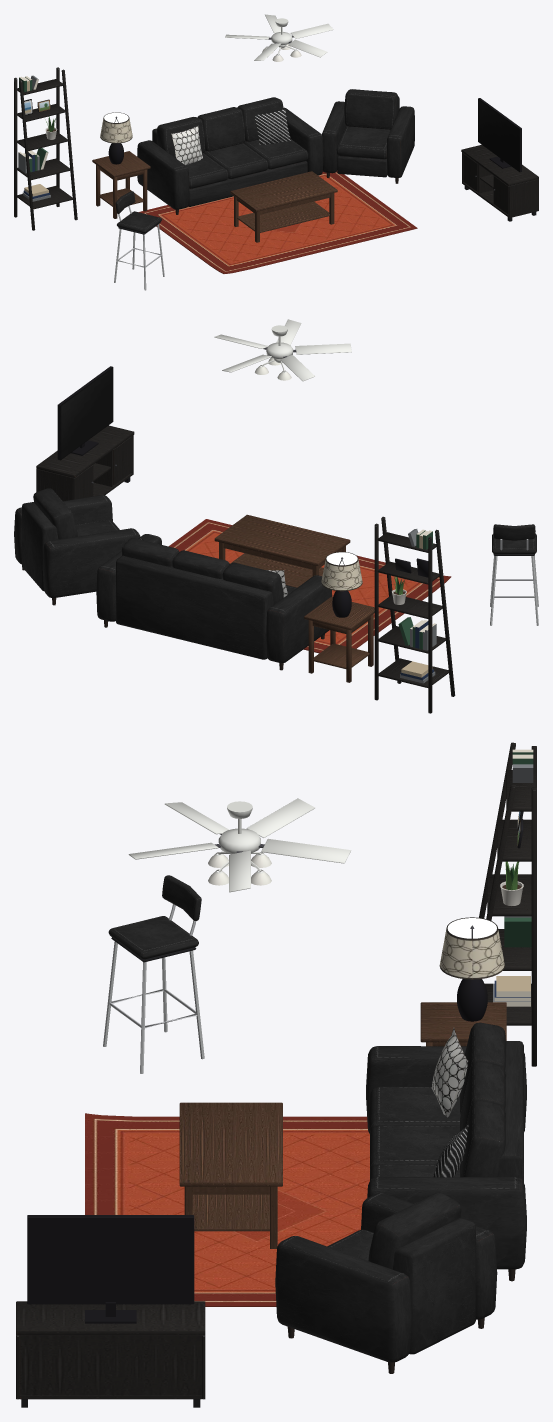
The model's file is us_living_props.glb.
3 views of the same model, one above another, from view 1: azimuth 30°, elevation 25°; view 2: azimuth 150°, elevation 25°; view 3: azimuth 270°, elevation 25° (orthographic). The views are drawn at different scales.
Visible parts, largest first — view 1: US_SOFA, US_RUG, US_ARMCHAIR, US_TVSTAND, US_LADDER, US_COFFEE, US_ENDTABLE, US_CEILINGFAN, US_BARSTOOL; view 2: US_SOFA, US_ARMCHAIR, US_TVSTAND, US_LADDER, US_COFFEE, US_ENDTABLE, US_RUG, US_CEILINGFAN, US_BARSTOOL; view 3: US_TVSTAND, US_SOFA, US_ARMCHAIR, US_RUG, US_COFFEE, US_LADDER, US_CEILINGFAN, US_ENDTABLE, US_BARSTOOL, US_ENDTABLE_GLOW.
Part boxes in pixels (x1,y1,x2,y2): US_SOFA: (137,97,323,214); US_RUG: (138,170,417,273); US_ARMCHAIR: (322,89,414,183); US_TVSTAND: (461,98,538,221); US_LADDER: (14,67,77,230); US_COFFEE: (230,171,337,242); US_ENDTABLE: (92,112,150,218); US_CEILINGFAN: (225,14,333,61); US_BARSTOOL: (114,191,164,290); US_SOFA: (96,534,332,670); US_ARMCHAIR: (14,488,140,605); US_TVSTAND: (36,366,134,501); US_LADDER: (374,516,455,713); US_COFFEE: (214,514,350,587); US_ENDTABLE: (304,552,374,682); US_RUG: (169,519,451,653); US_CEILINGFAN: (214,319,351,381); US_BARSTOOL: (490,524,538,625); US_TVSTAND: (16,1215,205,1407); US_SOFA: (366,1022,526,1281); US_ARMCHAIR: (275,1192,497,1373); US_RUG: (85,1113,369,1306); US_COFFEE: (179,1102,282,1248); US_LADDER: (479,742,536,1066); US_CEILINGFAN: (128,798,350,892); US_ENDTABLE: (420,917,506,1046); US_BARSTOOL: (103,875,204,1073); US_ENDTABLE_GLOW: (447,918,496,938).
Size of the model in its own units: 5.3 by 2.6 by 3.03.
2 materials, 1 textured.
